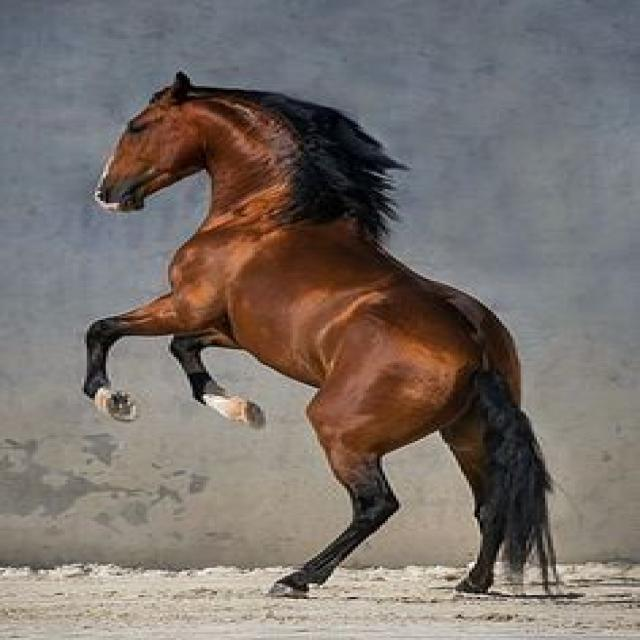Herbivorous: (87, 72, 561, 599)
